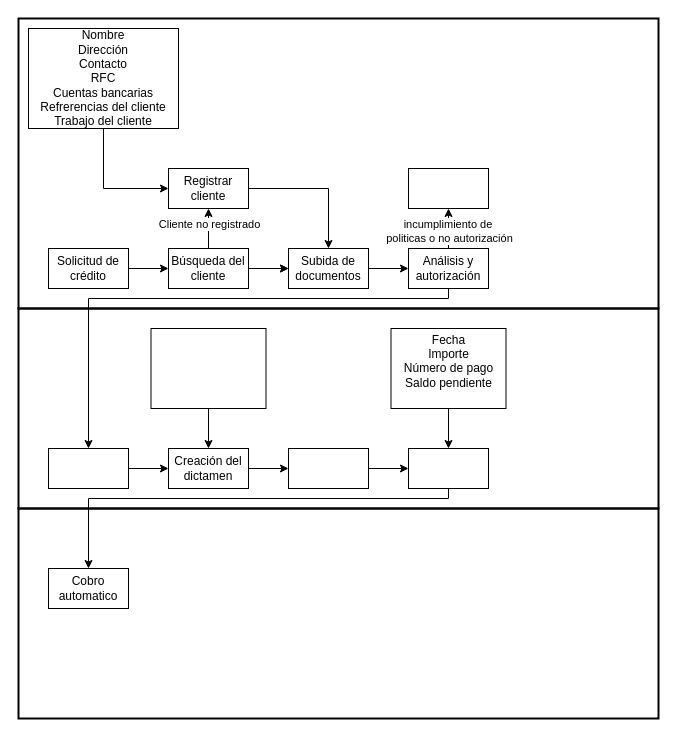
The diagram is 676 pixels wide and 736 high, and some of its shapes have lost their labels. The shapes that lost their labels are listed below. From the top down, each one's centre as x and y in pixels, then its label:
At [448,188]: "Rechazo".
At [208,368]: "Estatus Observaciones Fecha y hora Analista".
At [88,468]: "Checklist de políticas".
At [328,468]: "Envío al área de cobranza".
At [448,468]: "Tabla de pagos".
